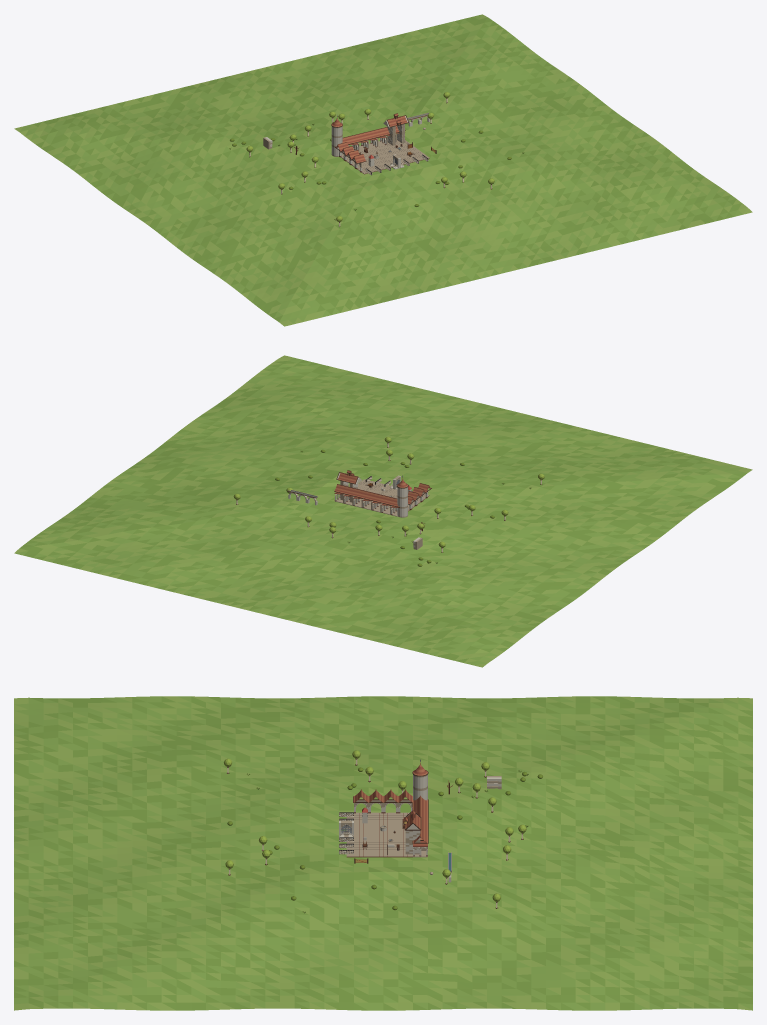
File: FreeKit_Cloister_Lodge.fbx
3 renders of one model, top to bottom at view 1: azimuth 30°, elevation 25°; view 2: azimuth 150°, elevation 25°; view 3: azimuth 270°, elevation 25°, orthographic. The views are drawn at different scales.
Parts seen in each view (by area): view 1: Free demo meadow; view 2: Free demo meadow; view 3: Free demo meadow.
Part boxes in pixels (box(x1,y1,x2,y2)): Free demo meadow: box(14, 14, 752, 326); Free demo meadow: box(14, 355, 752, 667); Free demo meadow: box(14, 696, 752, 1010).
Bounding box in the file's own units: 20000 × 2206 × 20000.
Materials: 40 (37 with a texture image).
